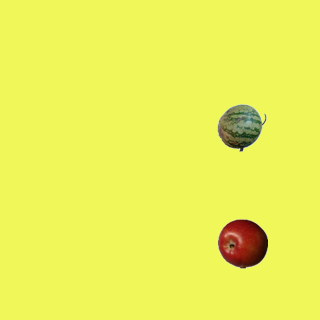Apple Braeburn: (217, 218, 267, 268)
Watermelon: (216, 102, 266, 152)
